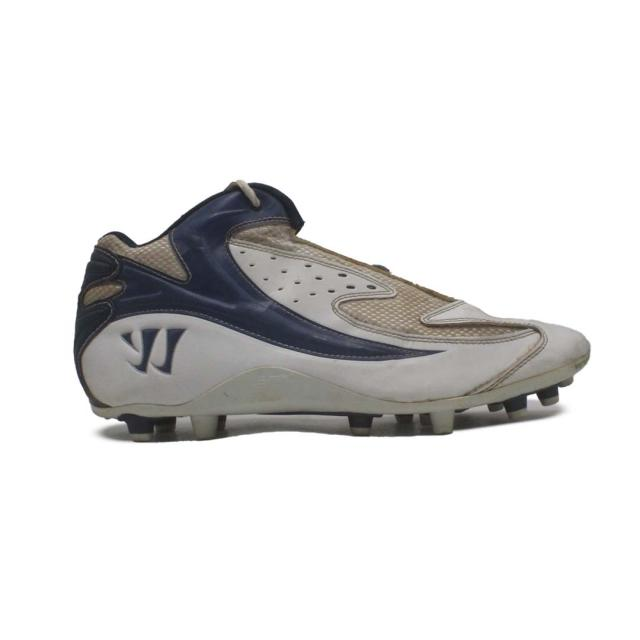heel: (74, 232, 154, 406)
midsole: (88, 352, 584, 442)
uppersole: (145, 180, 588, 406)
